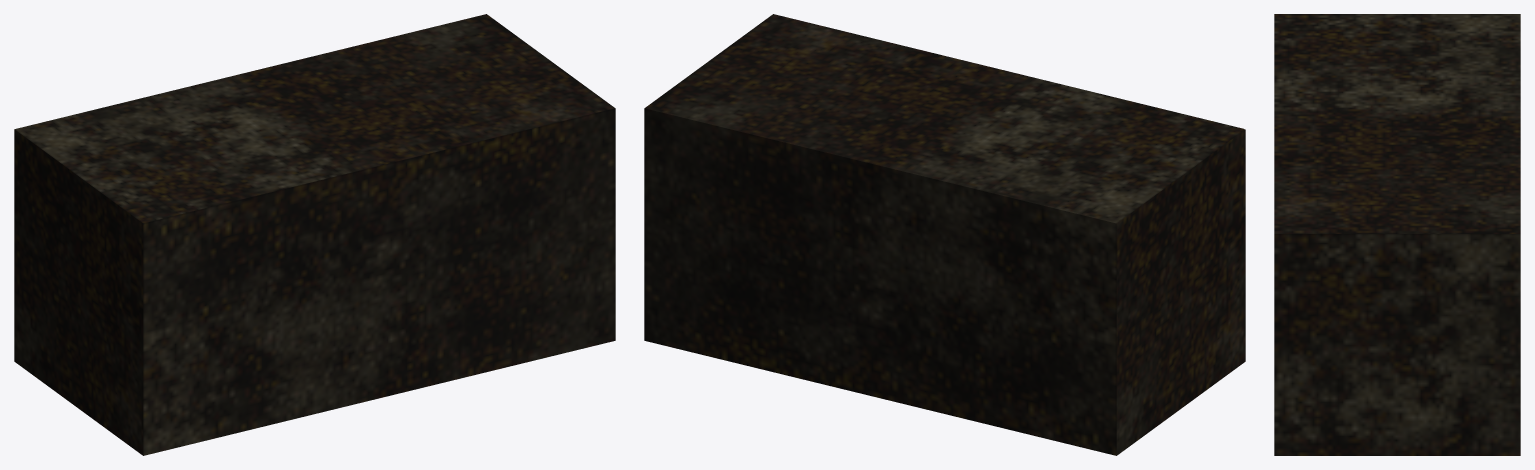
Rendered from SM_EC_Horror_Hay_6.fbx.
The picture shows the model from 3 angles, left to right: view 1: azimuth 30°, elevation 25°; view 2: azimuth 150°, elevation 25°; view 3: azimuth 270°, elevation 25°; orthographic projection. The views are drawn at different scales.
Parts seen in each view (by area): view 1: SM_EC_Horror_Hay_6; view 2: SM_EC_Horror_Hay_6; view 3: SM_EC_Horror_Hay_6.
Boxes of the visible parts, x1=… form: SM_EC_Horror_Hay_6: x1=14, y1=14, x2=615, y2=455; SM_EC_Horror_Hay_6: x1=644, y1=14, x2=1245, y2=455; SM_EC_Horror_Hay_6: x1=1274, y1=14, x2=1520, y2=455.
Size of the model in its own units: 1.95 by 0.9209 by 0.9165.
